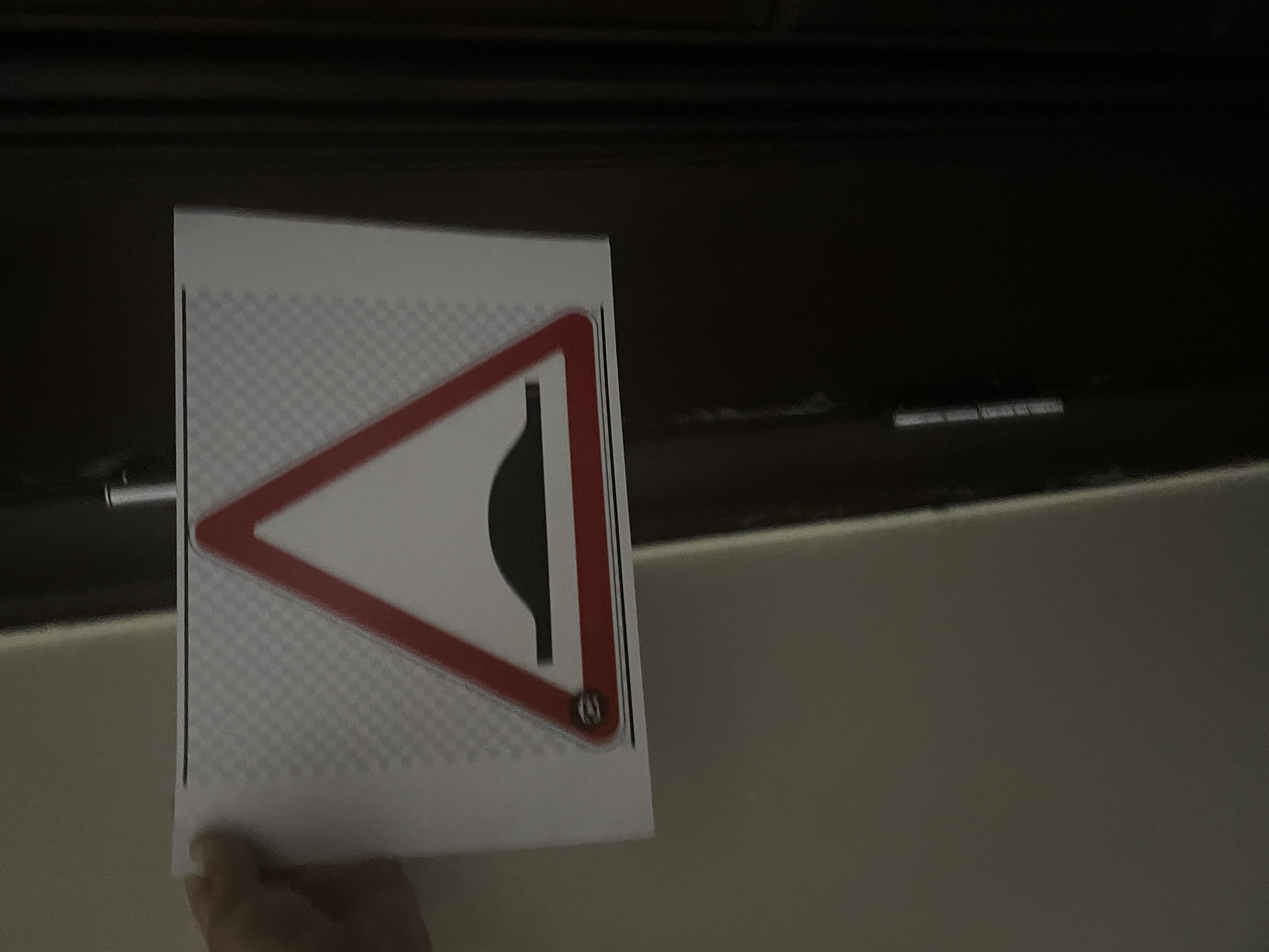Hump: (254, 144, 870, 462)
